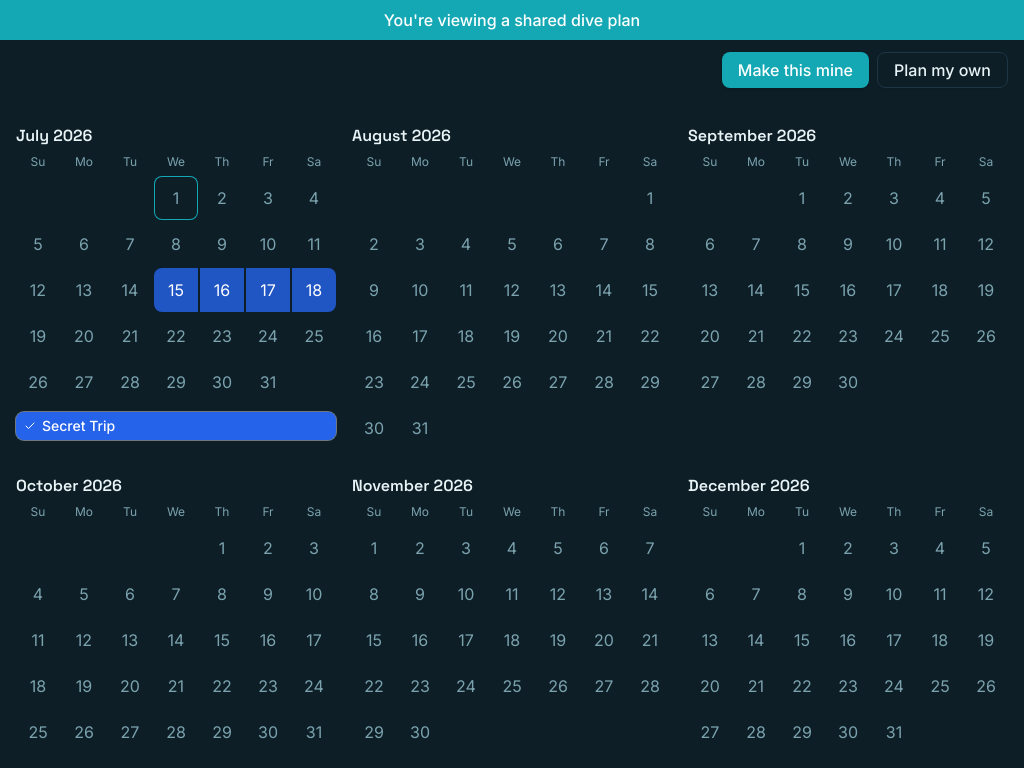
SharePage › opens a read-only trip detail dialog on click, resolving location from the shared plan
Click the button "Secret Trip" at (79, 426), box left=16, top=412, right=336, bottom=440
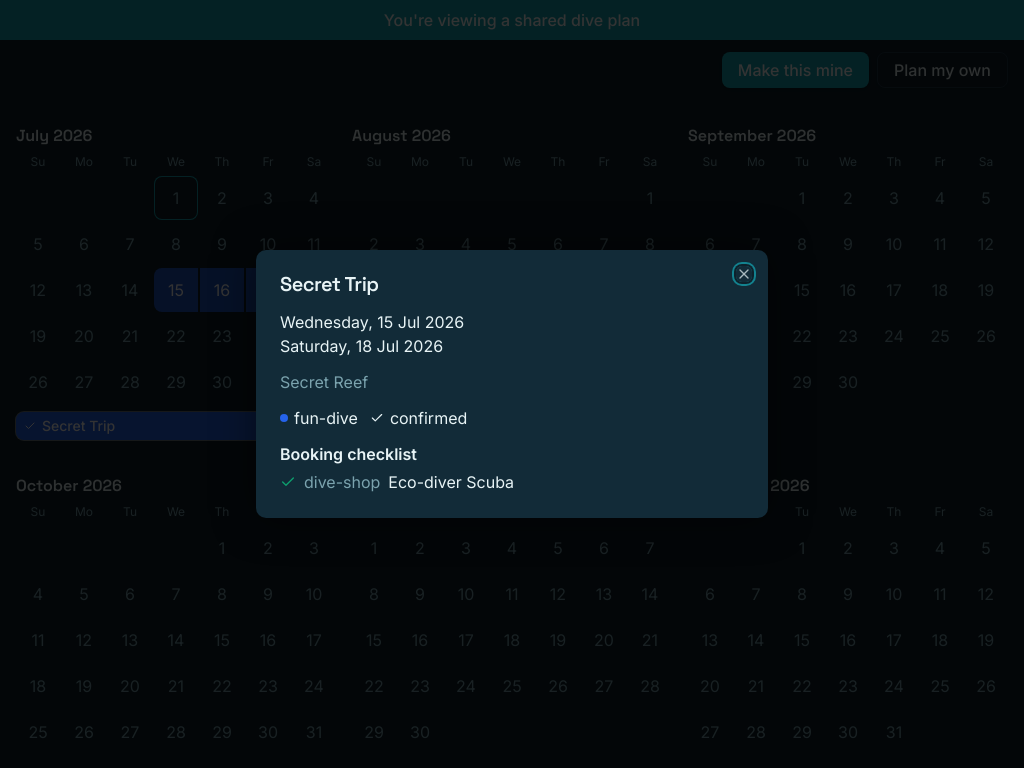
expect the text "Secret Reef" is shown: met, box left=280, top=372, right=368, bottom=392
expect the text "Eco-diver Scuba" is shown: met, box left=388, top=470, right=514, bottom=494
